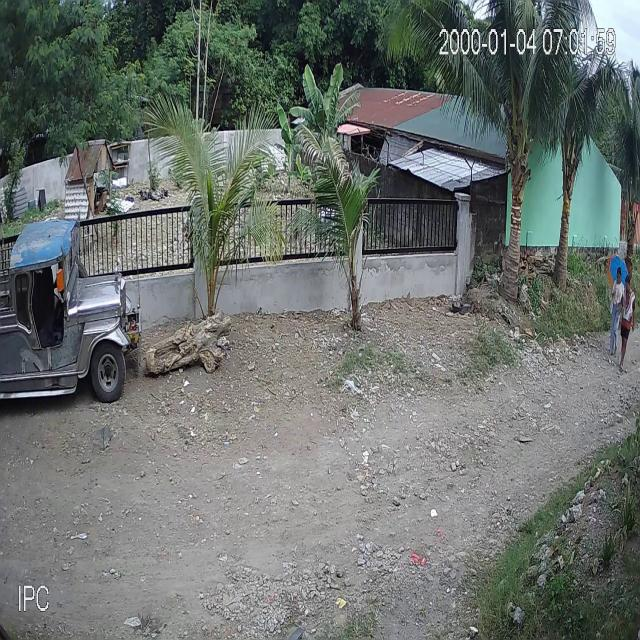walking: (606, 252, 633, 358), (615, 274, 638, 374)
